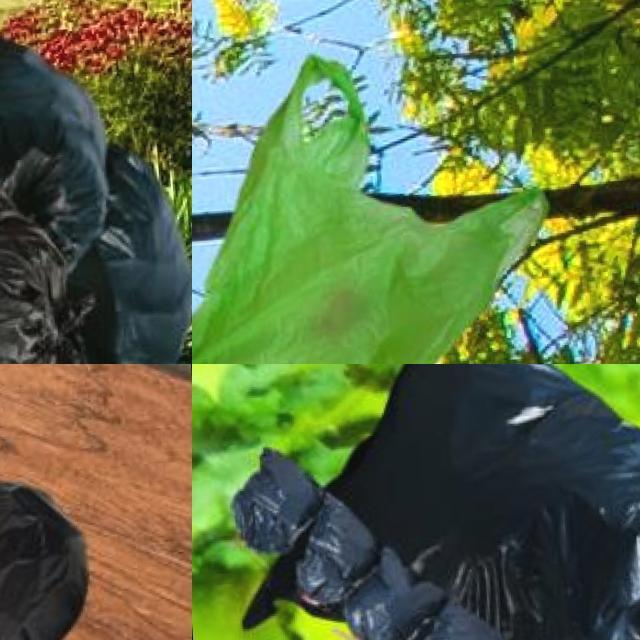waste: (192, 46, 559, 364), (230, 364, 640, 640), (0, 116, 102, 364), (0, 485, 104, 640), (291, 487, 382, 608), (231, 444, 320, 556), (344, 548, 448, 640), (412, 597, 514, 640)
